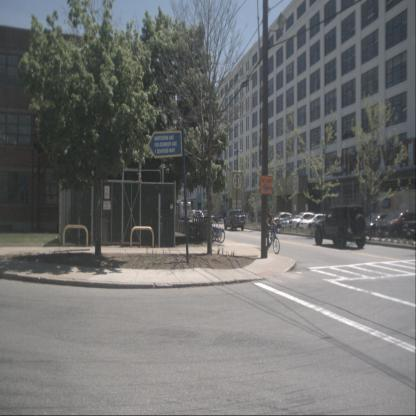vehicle-bicycle: (264, 208, 280, 254)
vehicle-bus-rigid: (174, 201, 192, 221)
vehicle-car: (314, 205, 367, 251), (374, 210, 416, 240), (357, 211, 397, 238), (300, 212, 333, 233), (310, 214, 340, 235), (288, 212, 317, 232), (224, 209, 245, 231), (268, 212, 293, 230), (275, 215, 299, 230)
